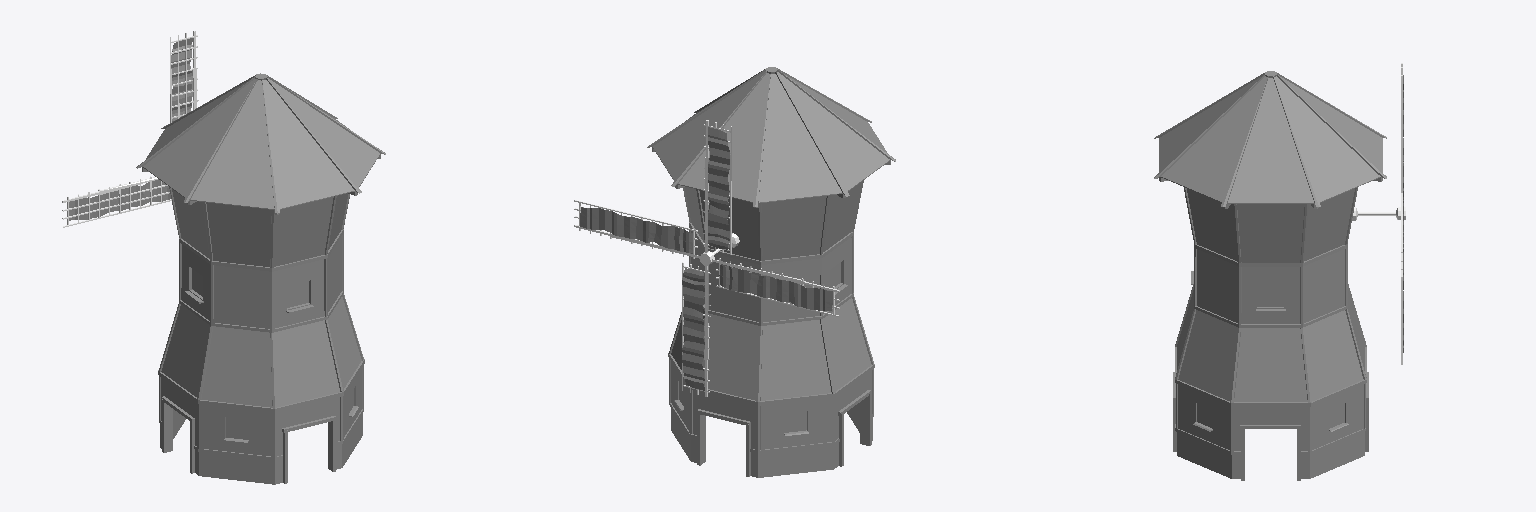
The model's file is Windmill2.obj.
3 views of the same model, side by side, from view 1: azimuth 30°, elevation 25°; view 2: azimuth 150°, elevation 25°; view 3: azimuth 270°, elevation 25° (orthographic).
Parts seen in each view (by area): view 1: moulin_Cylindre, windmill_blades_windmill_windmill_Material__28, frames_wooden_beam_doors_Cube.004, glasses_Cube.025; view 2: moulin_Cylindre, windmill_blades_windmill_windmill_Material__28, frames_wooden_beam_doors_Cube.004, glasses_Cube.025; view 3: moulin_Cylindre, glasses_Cube.025, windmill_blades_windmill_windmill_Material__28, frames_wooden_beam_doors_Cube.004.
Part boxes in pixels (bbox=[...]): moulin_Cylindre: bbox=[136, 73, 385, 484]; windmill_blades_windmill_windmill_Material__28: bbox=[62, 31, 198, 227]; frames_wooden_beam_doors_Cube.004: bbox=[161, 396, 336, 483]; glasses_Cube.025: bbox=[192, 269, 353, 439]; moulin_Cylindre: bbox=[647, 67, 895, 477]; windmill_blades_windmill_windmill_Material__28: bbox=[574, 120, 839, 396]; frames_wooden_beam_doors_Cube.004: bbox=[697, 390, 871, 476]; glasses_Cube.025: bbox=[679, 262, 840, 432]; moulin_Cylindre: bbox=[1154, 71, 1386, 478]; glasses_Cube.025: bbox=[1197, 285, 1344, 428]; windmill_blades_windmill_windmill_Material__28: bbox=[1352, 63, 1405, 364]; frames_wooden_beam_doors_Cube.004: bbox=[1173, 372, 1368, 480].
Size of the model in its own units: 16.25 by 21.47 by 13.37.